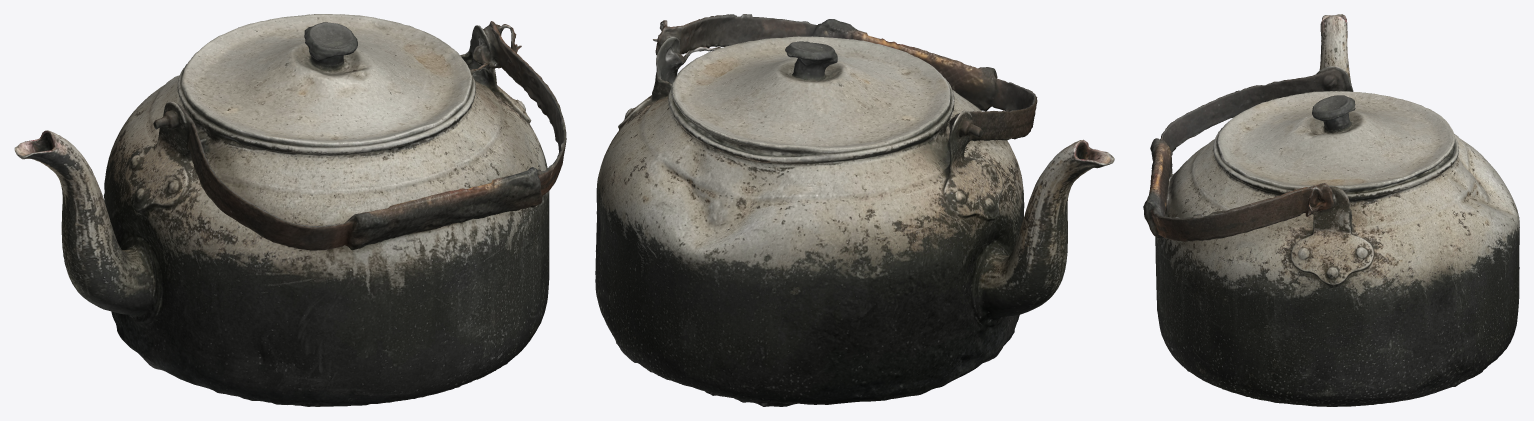
Rendered from an_aluminum_kettle.glb.
3 renders of one model, left to right at view 1: azimuth 30°, elevation 25°; view 2: azimuth 150°, elevation 25°; view 3: azimuth 270°, elevation 25°, orthographic. The views are drawn at different scales.
Parts seen in each view (by area): view 1: Object_2; view 2: Object_2; view 3: Object_2.
Part boxes in pixels (<box>): Object_2: <box>14,14,566,406</box>; Object_2: <box>595,14,1114,406</box>; Object_2: <box>1143,14,1519,406</box>.
Bounding box in the file's own units: 23.39 × 13.01 × 18.53.
1 material, 1 textured.
